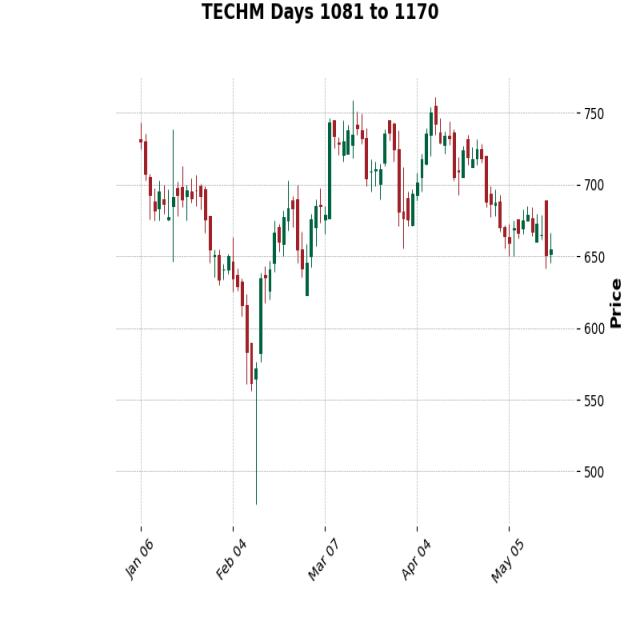Symmetric Triangle: (414, 83, 486, 228)
